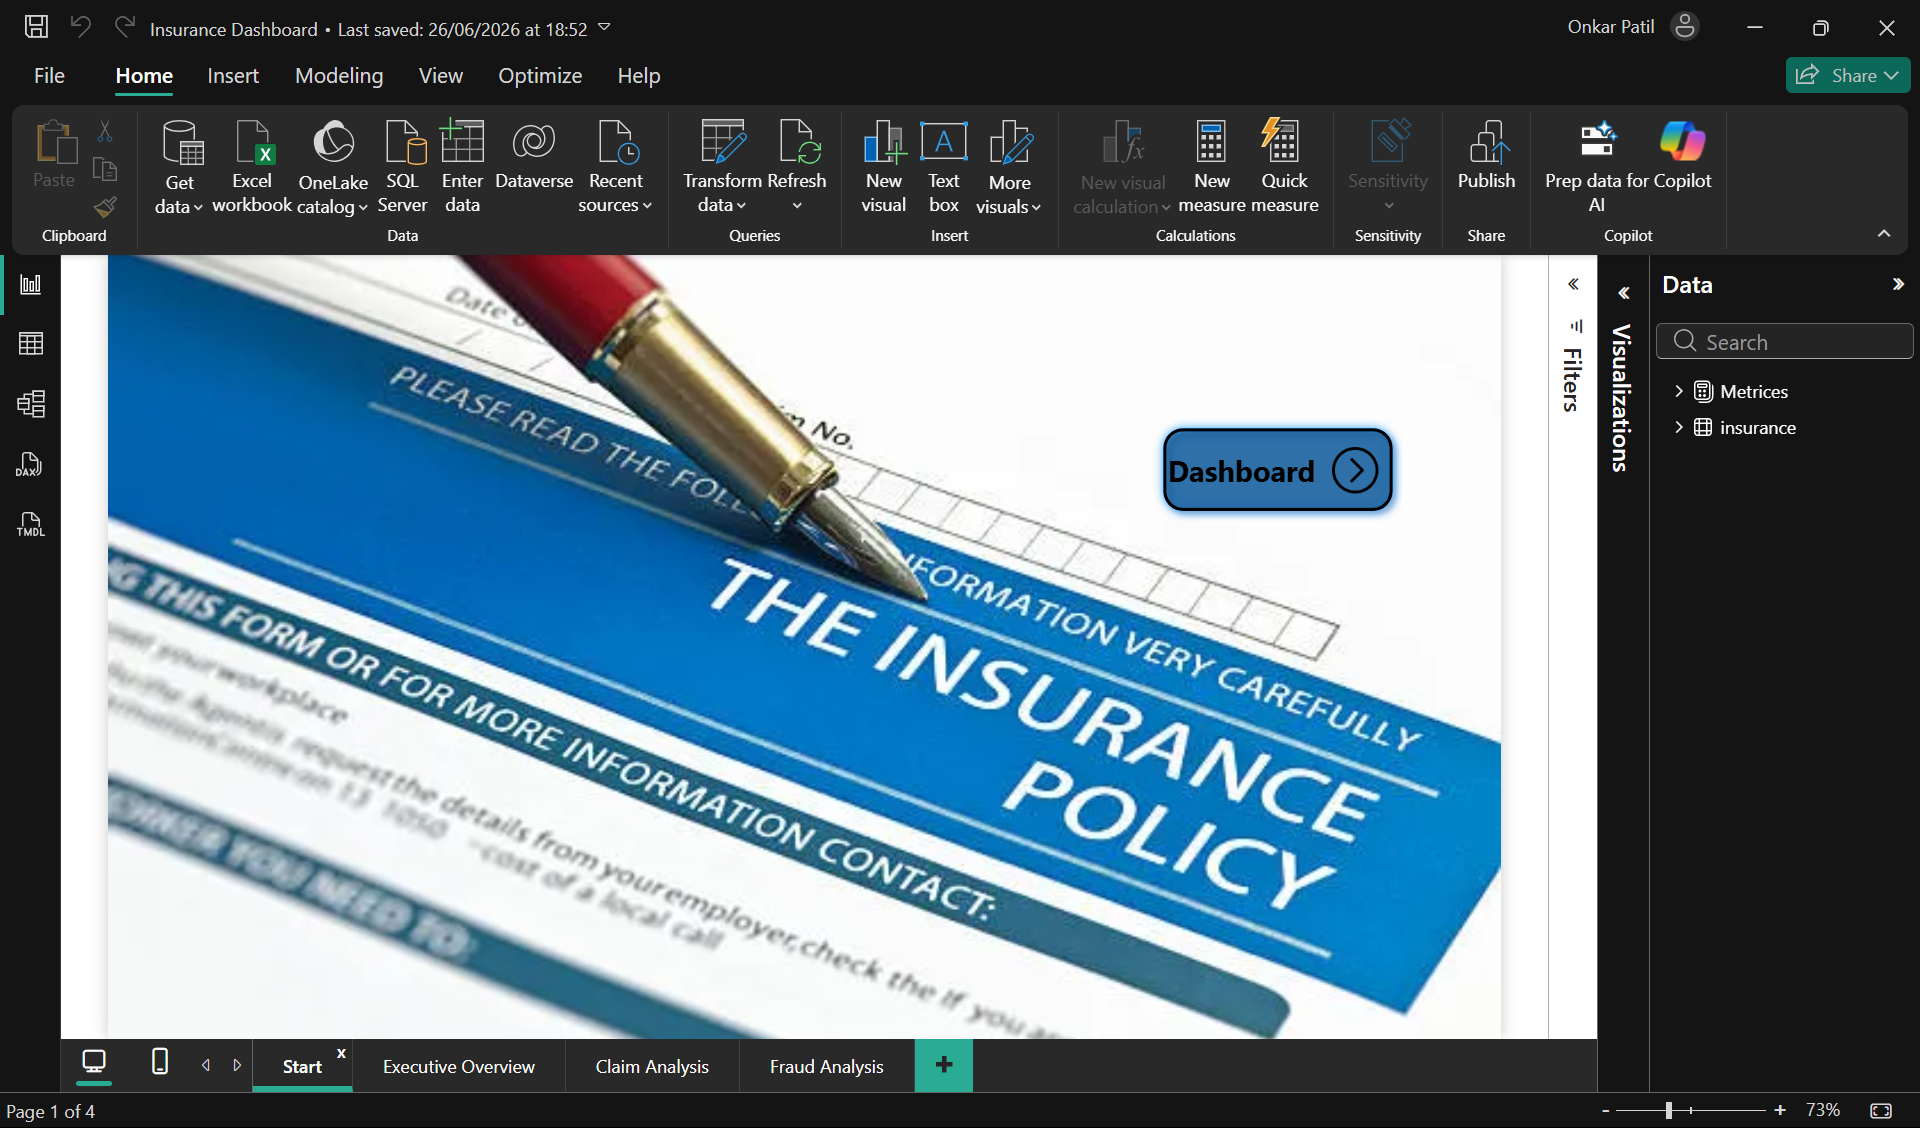

The dashboard page shown, as its layout file describes it:
{"tool":"powerbi","page":{"name":"Start","canvas":[1280,720],"ordinal":0},"visuals":[{"type":"actionButton","title":"Dashboard","box":[960,149.9,228.6,93.9],"z":0},{"type":"image","box":[1123.5,175.6,42.4,42.4],"z":1}]}

Visuals, with their boxes on the page's 1280x720 design canvas (x1, y1, x2, y2). These are canvas units, not pixel positions in the 1920x1128 screenshot, which may show the page scaled, cropped or inside an application window:
"Dashboard" actionButton: pyautogui.locateOnScreen(960, 150, 1189, 244)
image: pyautogui.locateOnScreen(1124, 176, 1166, 218)
